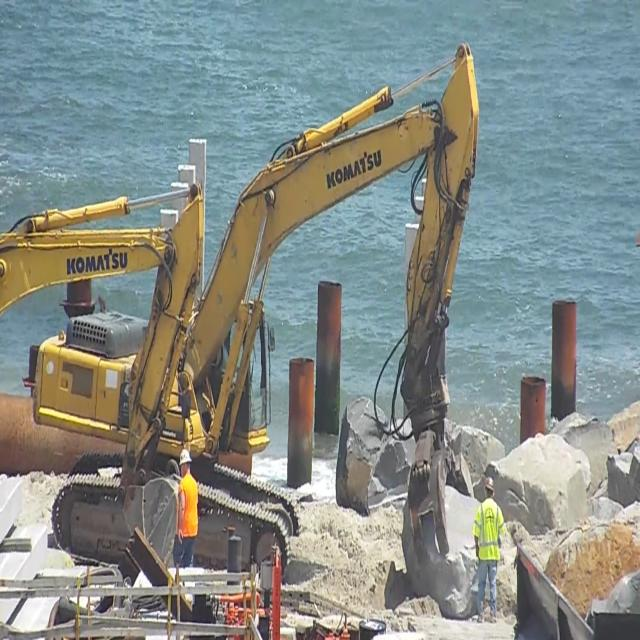machinery: (27, 31, 489, 592)
worker: (478, 472, 501, 624), (175, 441, 199, 568)
